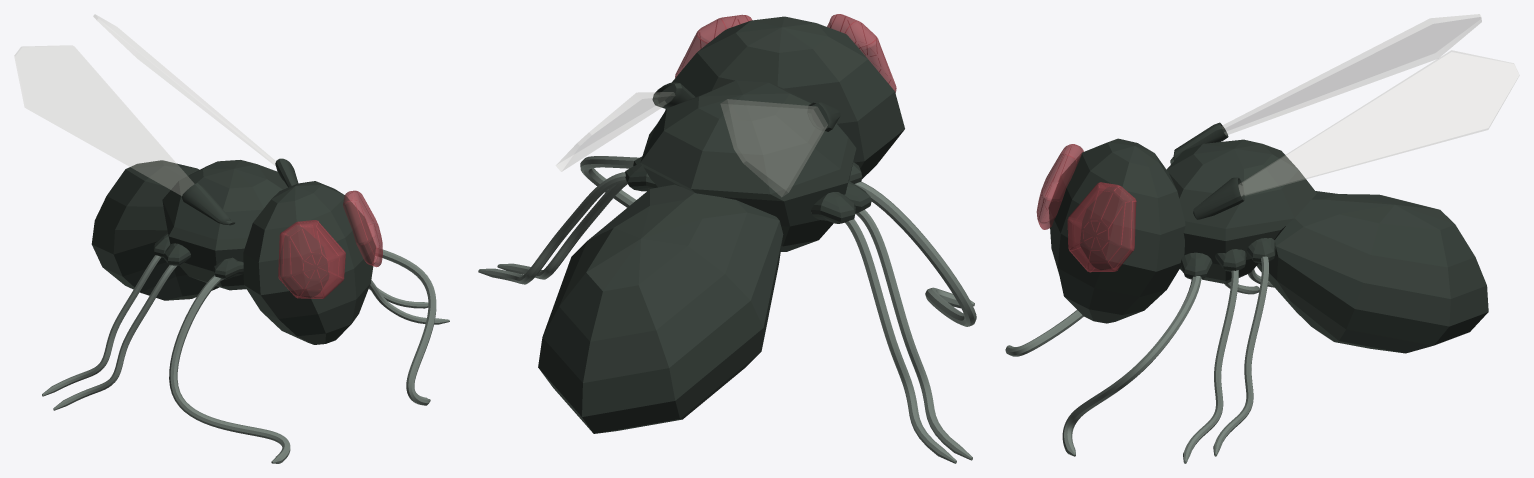
Rendered from flyModel.fbx.
The picture shows the model from 3 angles, left to right: view 1: azimuth 30°, elevation 25°; view 2: azimuth 150°, elevation 25°; view 3: azimuth 270°, elevation 25°; orthographic projection. The views are drawn at different scales.
Visible parts, largest first — view 1: curve1; view 2: curve1; view 3: curve1.
Boxes of the visible parts, x1,y1,x2,y2 form: curve1: [14, 14, 449, 463]; curve1: [478, 14, 976, 463]; curve1: [1005, 14, 1519, 463].
Size of what is drawn, in the model's own units: 0.9309 by 0.7111 by 1.01.
